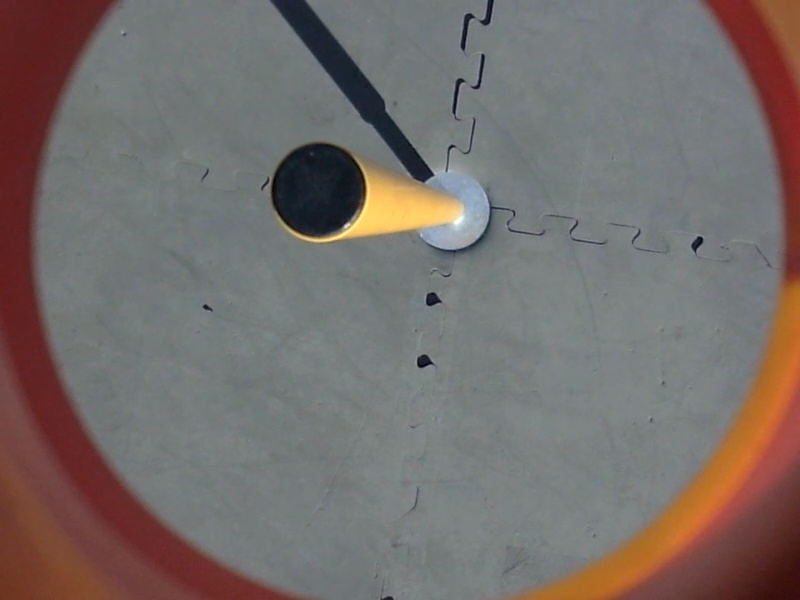tip: (269, 141, 372, 243)
